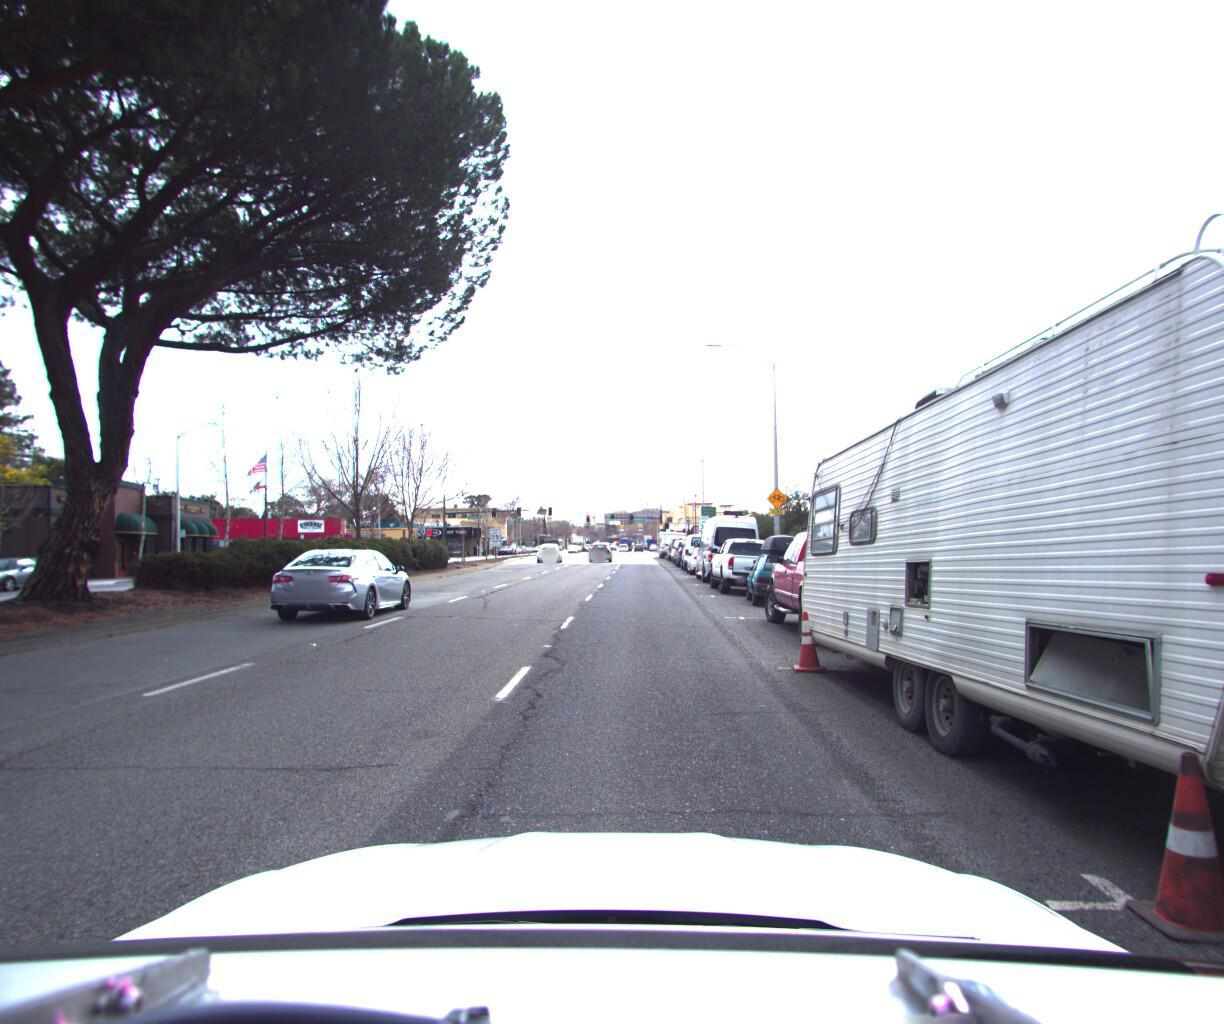car: (757, 518, 960, 664), (264, 542, 420, 624), (734, 529, 827, 604), (692, 508, 763, 583), (707, 532, 787, 593), (0, 553, 62, 596), (679, 527, 722, 567), (666, 527, 690, 554), (587, 535, 614, 557), (536, 534, 563, 556)
other_vehicle: (783, 138, 1224, 1024), (656, 521, 685, 552)
